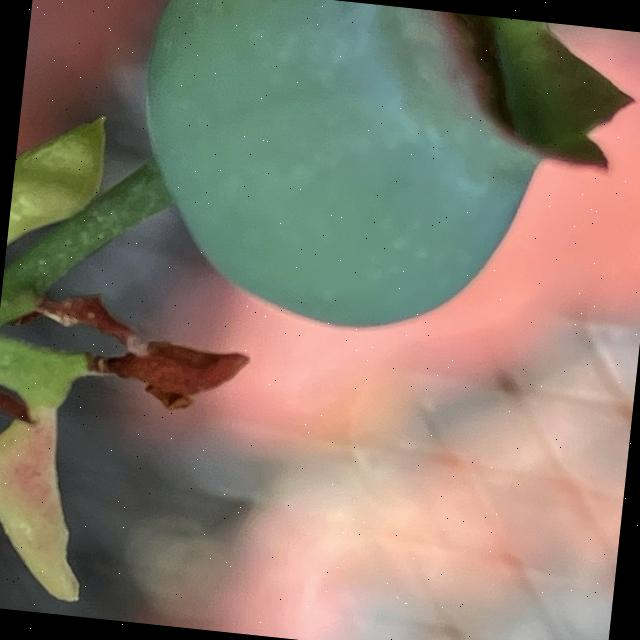Blueberries: (114, 0, 637, 362)
